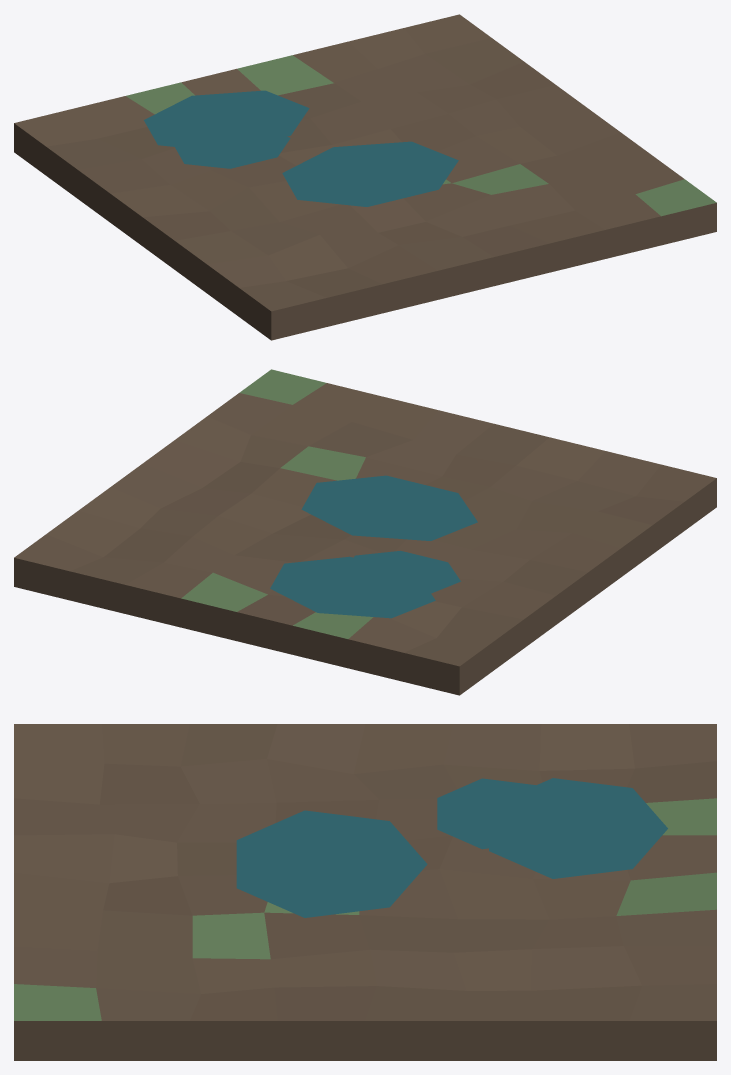
Rendered from ground_mud.glb.
The picture shows the model from 3 angles, top to bottom: view 1: azimuth 30°, elevation 25°; view 2: azimuth 150°, elevation 25°; view 3: azimuth 270°, elevation 25°; orthographic projection. The views are drawn at different scales.
Visible parts, largest first — view 1: ground_mud; view 2: ground_mud; view 3: ground_mud.
Boxes of the visible parts, x1=… form: ground_mud: x1=14, y1=14, x2=716, y2=340; ground_mud: x1=14, y1=369, x2=716, y2=695; ground_mud: x1=14, y1=724, x2=716, y2=1060.
Size of the model in its own units: 4 by 0.262 by 4.
